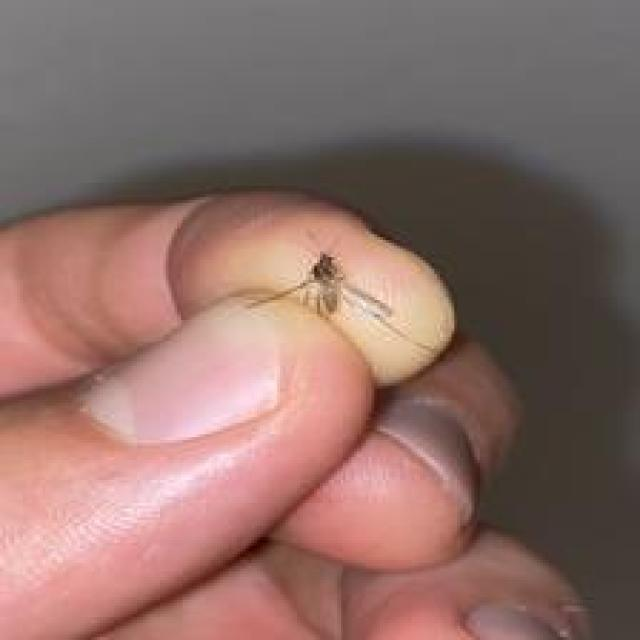Culex: (235, 248, 398, 326)
